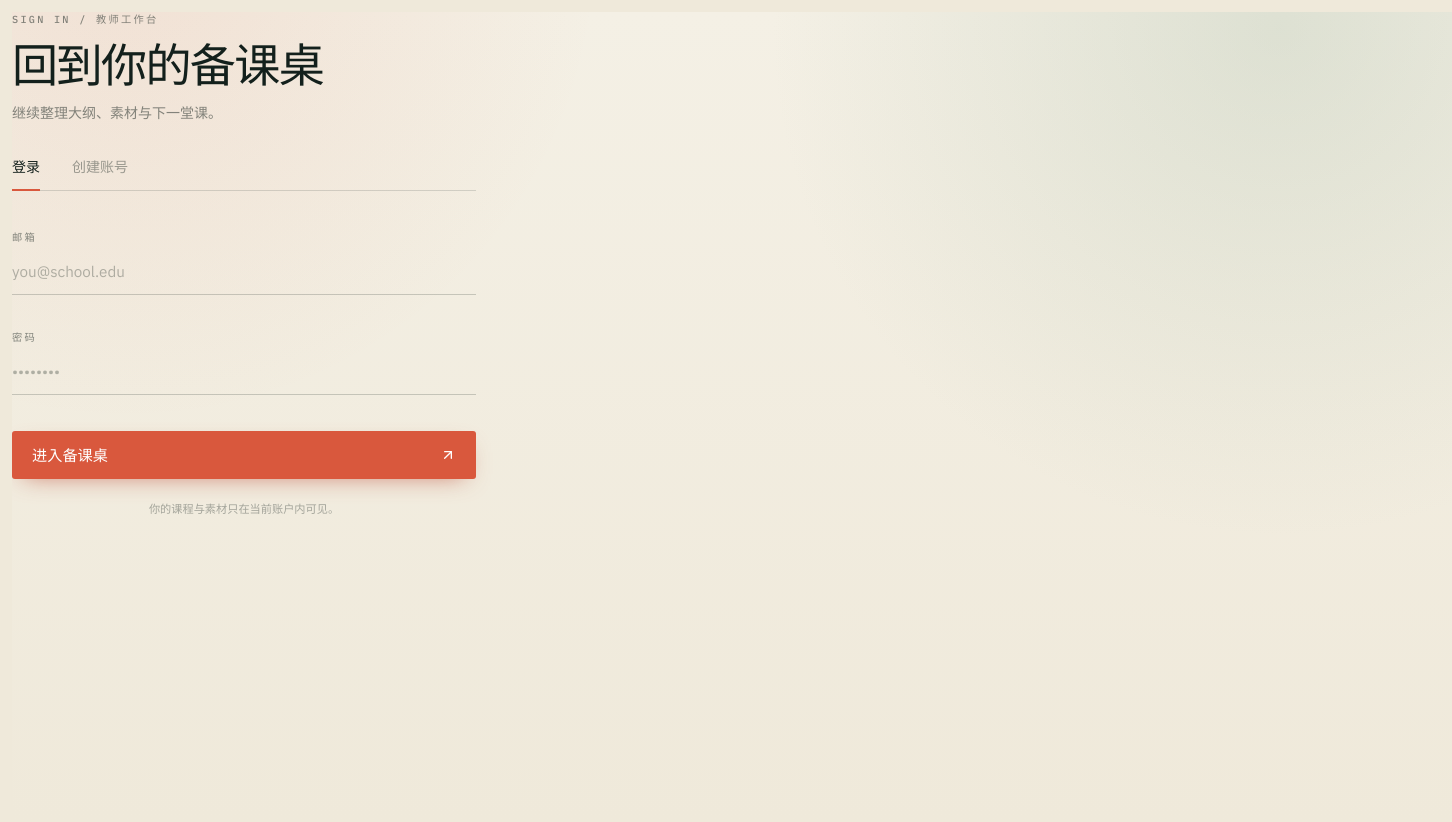
Test case: LoginForm › shows the resend cooldown when a code was sent moments ago
Click the tab "创建账号": (100, 174) top-left (72, 157), bottom-right (128, 191)
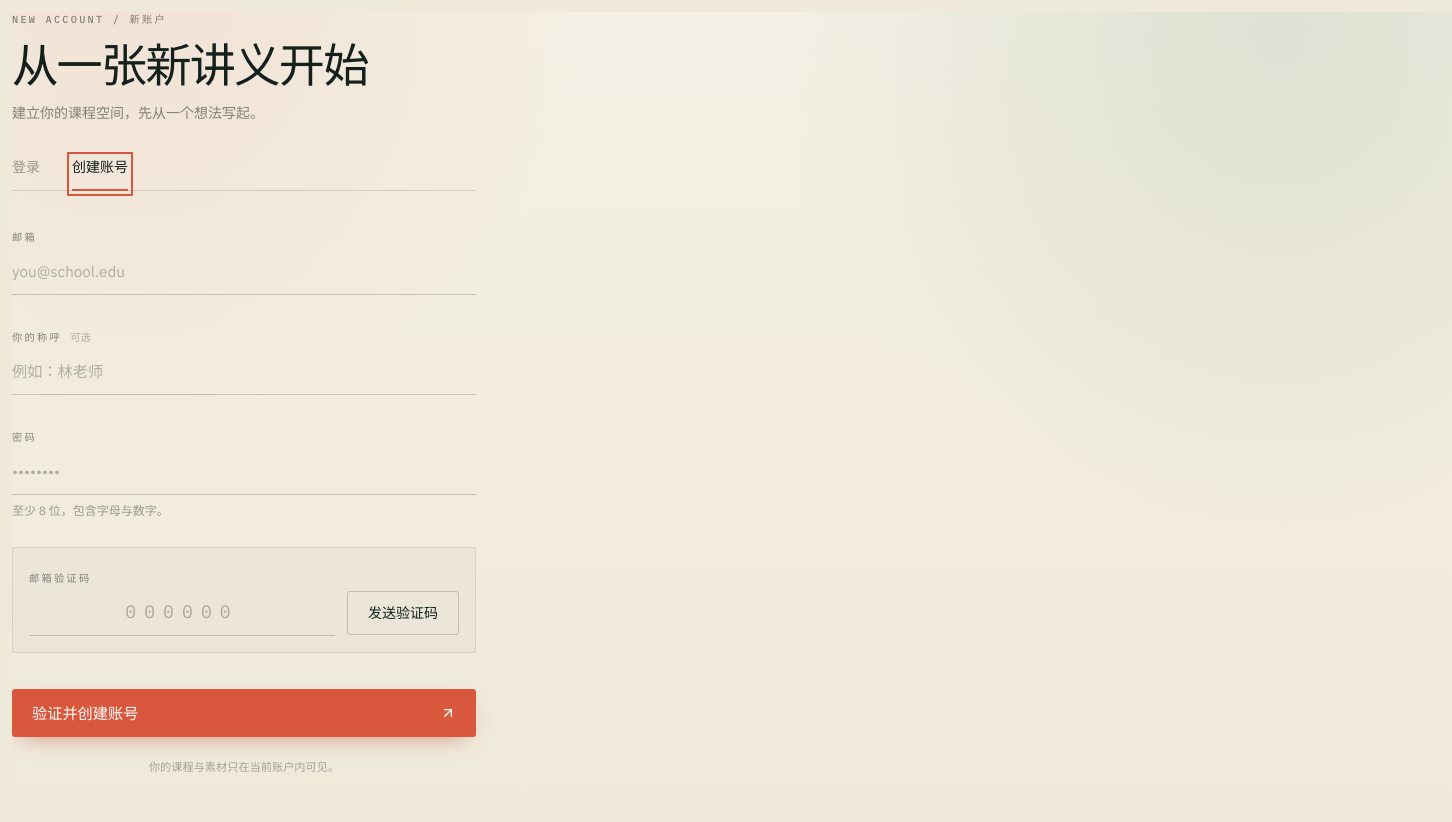
In the field labelled "邮箱": (244, 271) top-left (12, 247), bottom-right (476, 295), type "teacher@example.com"
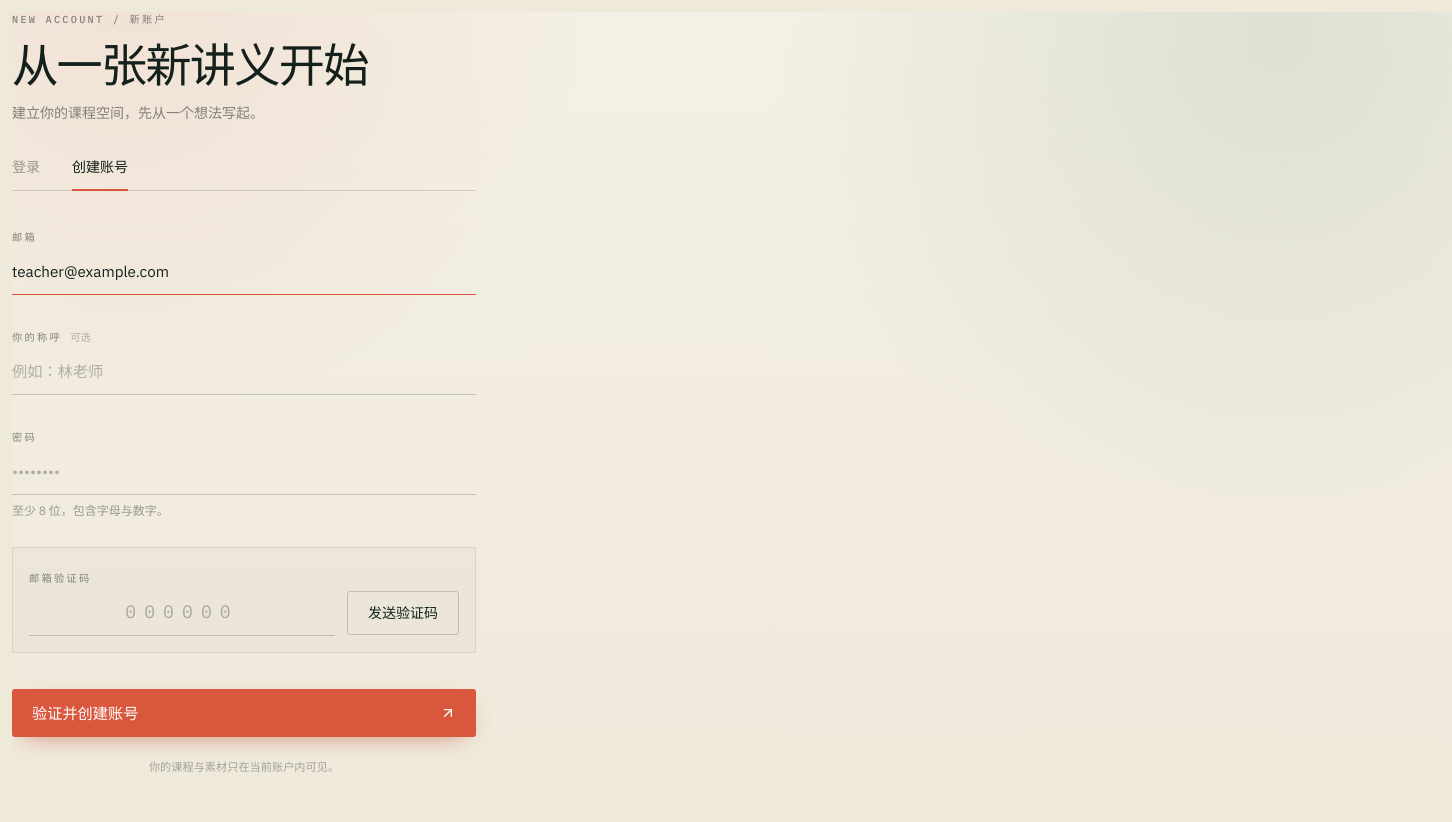
Click the button "发送验证码": (403, 613) top-left (347, 591), bottom-right (459, 635)
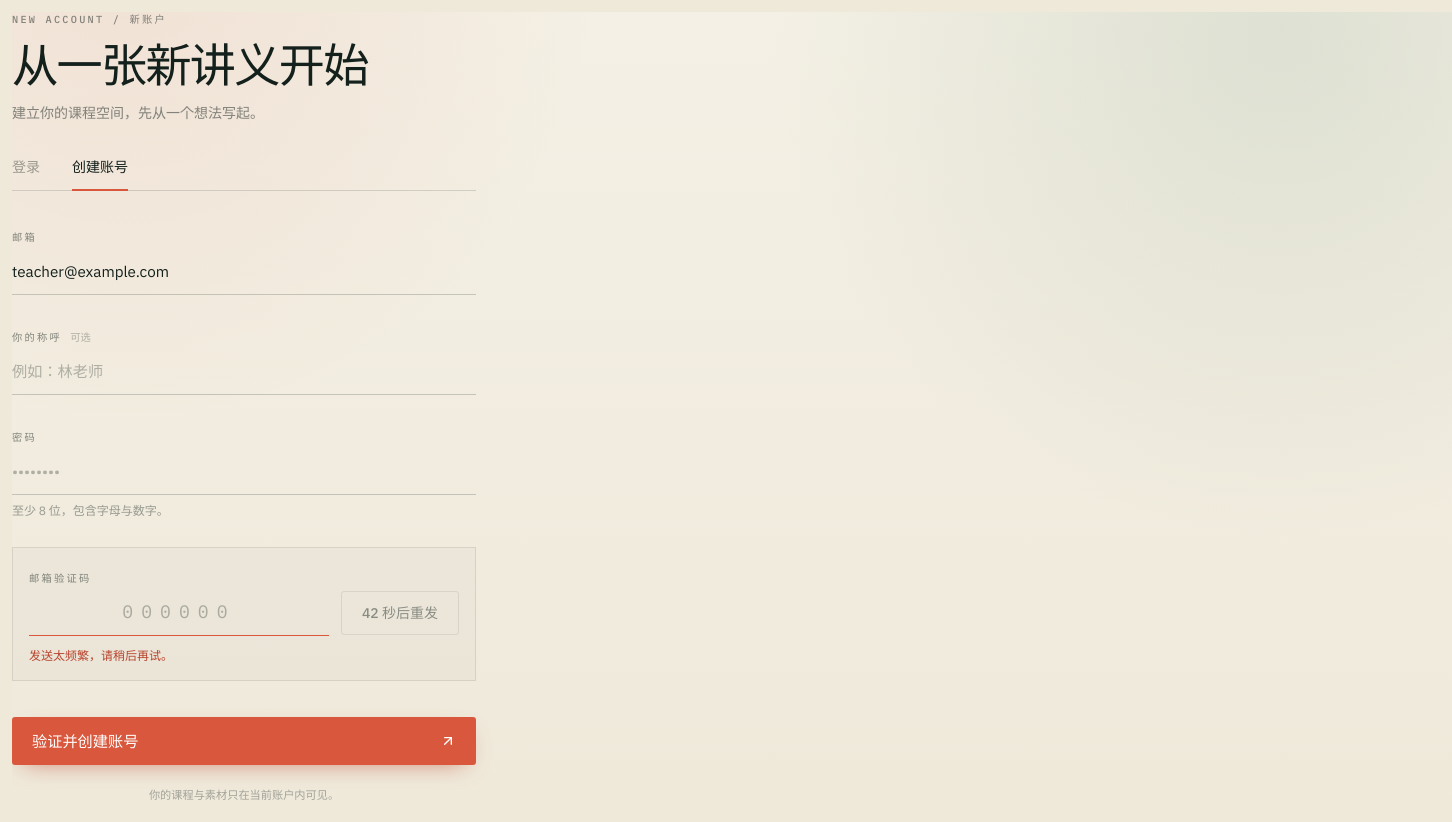
Expected: the text "发送太频繁，请稍后再试。" is shown, top-left (29, 648), bottom-right (173, 663)
Expected: the button "42 秒后重发" is disabled, top-left (341, 591), bottom-right (459, 635)
